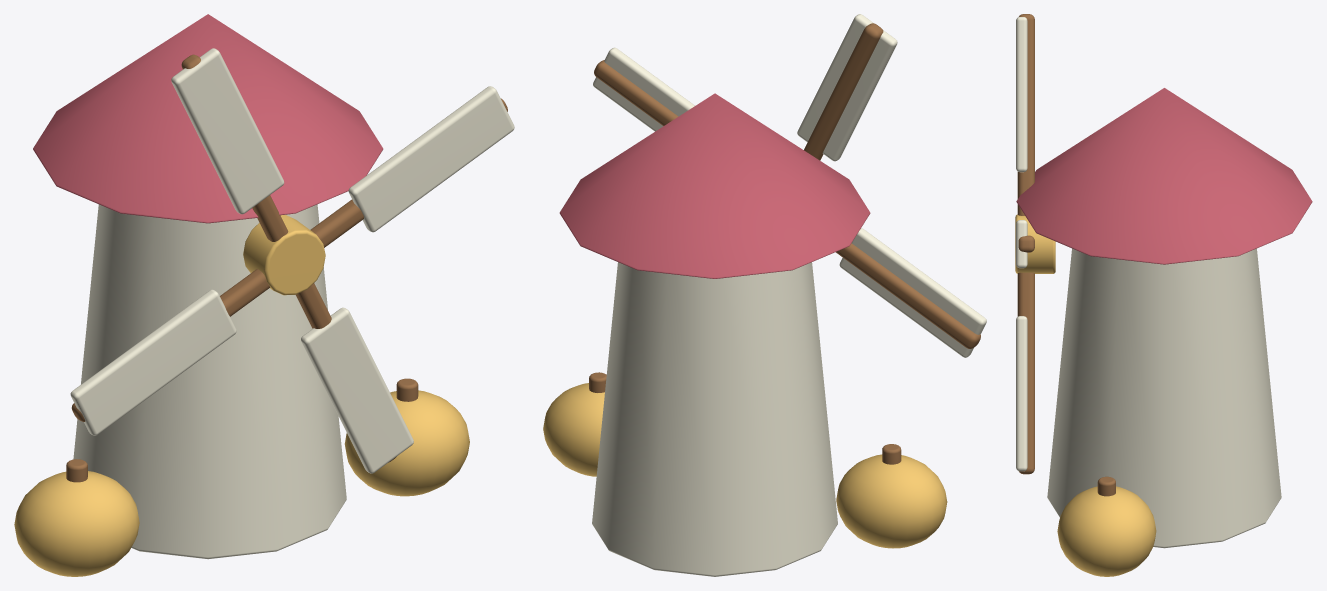
Rendered from Decor_Autumn.fbx.
3 views of the same model, side by side, from view 1: azimuth 30°, elevation 25°; view 2: azimuth 150°, elevation 25°; view 3: azimuth 270°, elevation 25° (orthographic). The views are drawn at different scales.
Visible parts, largest first — view 1: Mill tower, Terracotta cap, Pumpkin, Canvas sail, Canvas sail.002, Canvas sail.001, Canvas sail.003, Pumpkin.001, Sail hub, Windmill arm.002, Windmill arm, Windmill arm.001 (+1 smaller); view 2: Mill tower, Terracotta cap, Pumpkin, Canvas sail.002, Canvas sail.001, Pumpkin.001, Windmill arm.002, Windmill arm.001, Canvas sail, Windmill arm; view 3: Mill tower, Terracotta cap, Pumpkin.001, Windmill arm.003, Canvas sail.003, Canvas sail.001, Windmill arm.001, Sail hub, Canvas sail.
Boxes of the visible parts, left/top/right/bottom form: Mill tower: left=73, top=204, right=346, bottom=559; Terracotta cap: left=33, top=14, right=383, bottom=223; Pumpkin: left=14, top=471, right=139, bottom=576; Canvas sail: left=348, top=86, right=514, bottom=232; Canvas sail.002: left=70, top=289, right=236, bottom=435; Canvas sail.001: left=171, top=48, right=284, bottom=214; Canvas sail.003: left=301, top=307, right=413, bottom=473; Pumpkin.001: left=344, top=390, right=469, bottom=496; Sail hub: left=243, top=215, right=325, bottom=295; Windmill arm.002: left=71, top=269, right=270, bottom=421; Windmill arm: left=310, top=98, right=507, bottom=247; Windmill arm.001: left=181, top=54, right=288, bottom=241; Mill tower: left=592, top=262, right=837, bottom=576; Terracotta cap: left=559, top=93, right=870, bottom=278; Pumpkin: left=836, top=454, right=947, bottom=548; Canvas sail.002: left=839, top=228, right=986, bottom=357; Canvas sail.001: left=797, top=14, right=897, bottom=161; Pumpkin.001: left=543, top=383, right=604, bottom=476; Windmill arm.002: left=836, top=243, right=980, bottom=348; Windmill arm.001: left=804, top=23, right=883, bottom=160; Canvas sail: left=593, top=47, right=694, bottom=131; Windmill arm: left=594, top=60, right=678, bottom=125; Mill tower: left=1047, top=248, right=1281, bottom=548; Terracotta cap: left=1016, top=88, right=1312, bottom=264; Pumpkin.001: left=1057, top=486, right=1156, bottom=576; Windmill arm.003: left=1017, top=272, right=1034, bottom=474; Canvas sail.003: left=1016, top=316, right=1027, bottom=471; Canvas sail.001: left=1016, top=17, right=1027, bottom=172; Windmill arm.001: left=1017, top=14, right=1034, bottom=215; Sail hub: left=1015, top=214, right=1055, bottom=273; Canvas sail: left=1016, top=220, right=1027, bottom=268.
Bounding box in the file's own units: 374 × 435 × 258.
